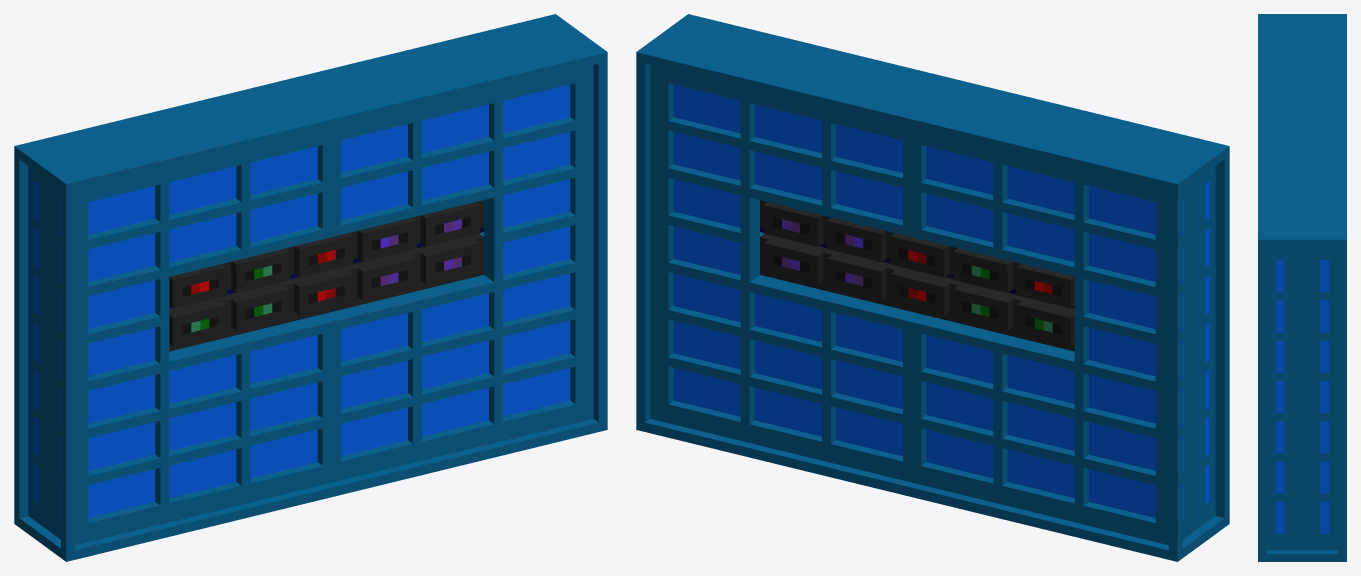
The model's file is Blue Wall 3.obj.
The picture shows the model from 3 angles, left to right: view 1: azimuth 30°, elevation 25°; view 2: azimuth 150°, elevation 25°; view 3: azimuth 270°, elevation 25°; orthographic projection. The views are drawn at different scales.
Size of the model in its own units: 60 by 40 by 10.
1 material, 1 textured.
